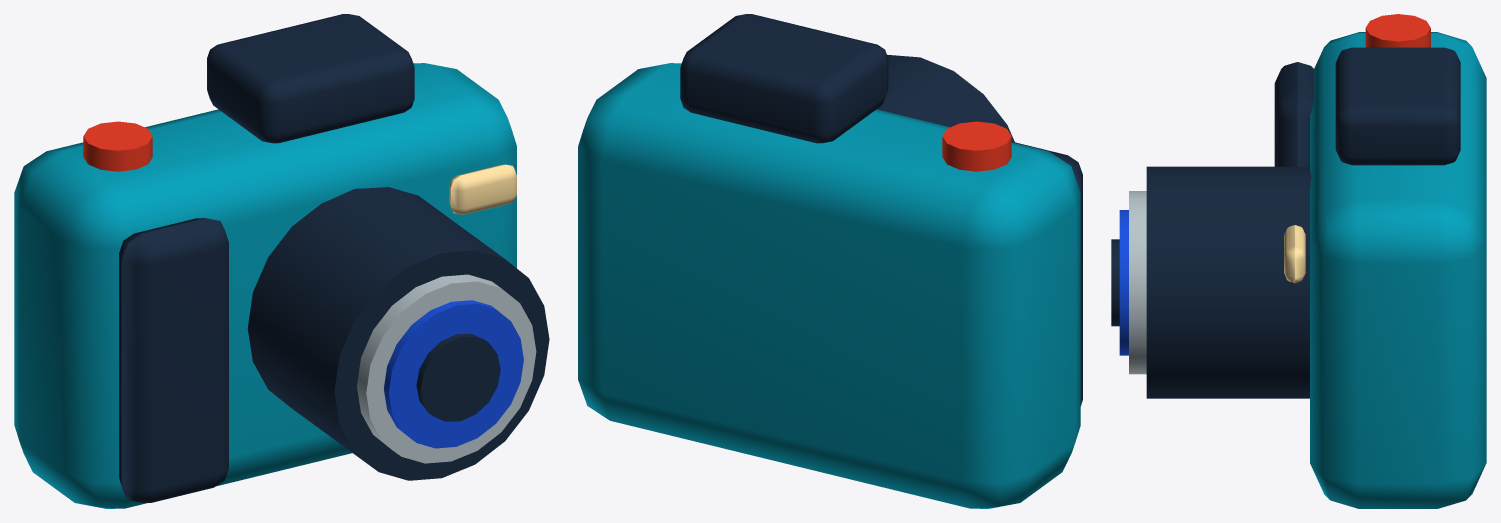
The model's file is 14_Camera.glb.
3 views of the same model, side by side, from view 1: azimuth 30°, elevation 25°; view 2: azimuth 150°, elevation 25°; view 3: azimuth 270°, elevation 25° (orthographic). The views are drawn at different scales.
Visible parts, largest first — view 1: 14_Camera_EXPORT; view 2: 14_Camera_EXPORT; view 3: 14_Camera_EXPORT.
Part boxes in pixels (x1,y1,x2,y2): 14_Camera_EXPORT: (14,14,549,508); 14_Camera_EXPORT: (578,14,1082,508); 14_Camera_EXPORT: (1111,14,1486,508).
Bounding box in the file's own units: 0.36 × 0.299 × 0.276.
